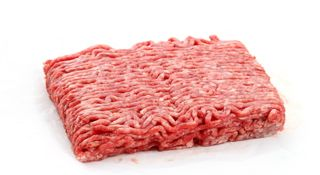ground_beef: (44, 30, 279, 145)
